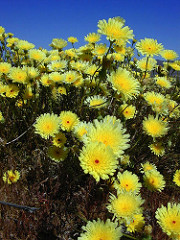dandelion: (77, 138, 123, 183), (105, 65, 143, 101), (32, 110, 62, 142), (6, 62, 29, 88)
